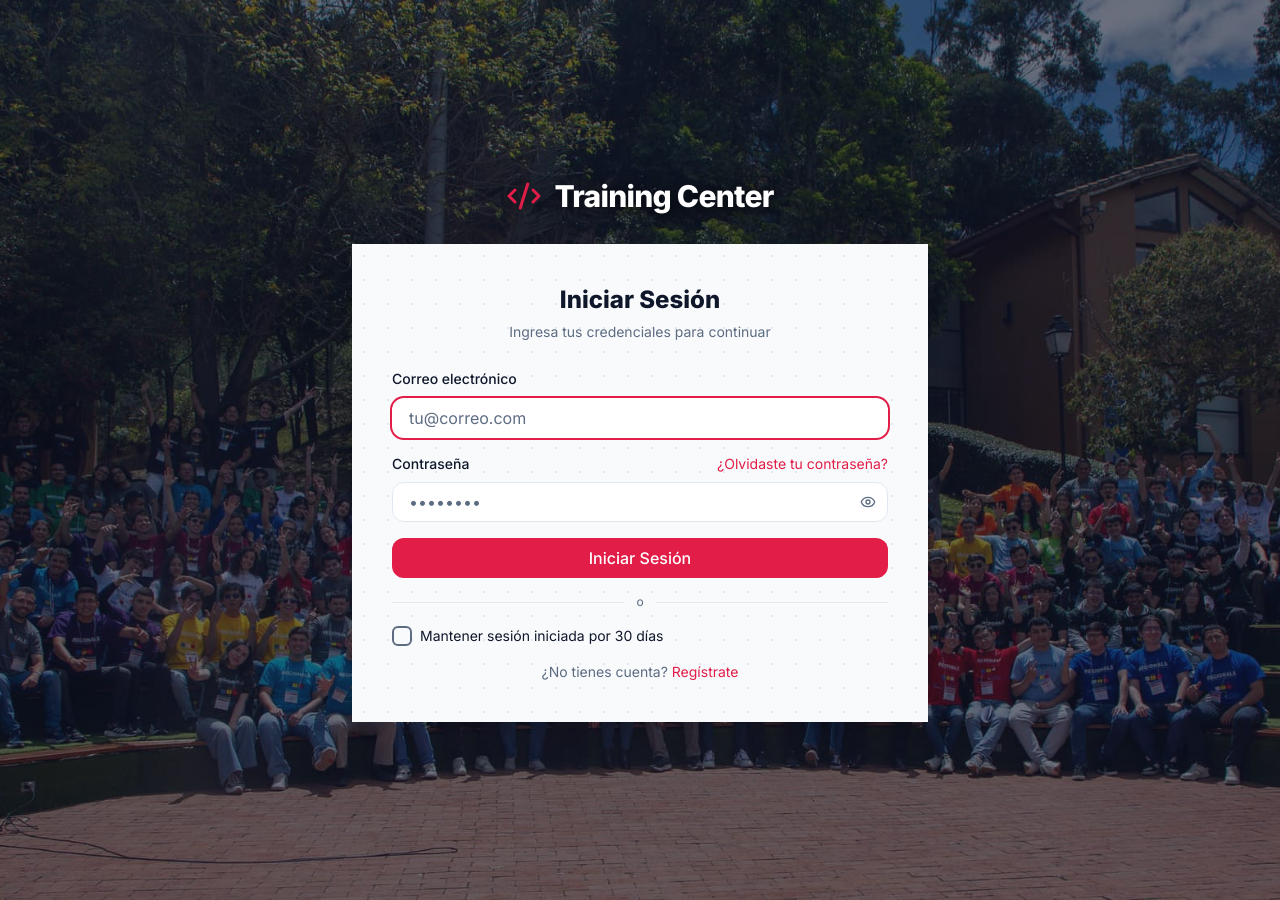
Scenario: LoginPage › shows validation error for invalid email format
In the field with placeholder "tu@correo.com": (640, 418) left=392, top=398, right=888, bottom=438, type "a@test.c"
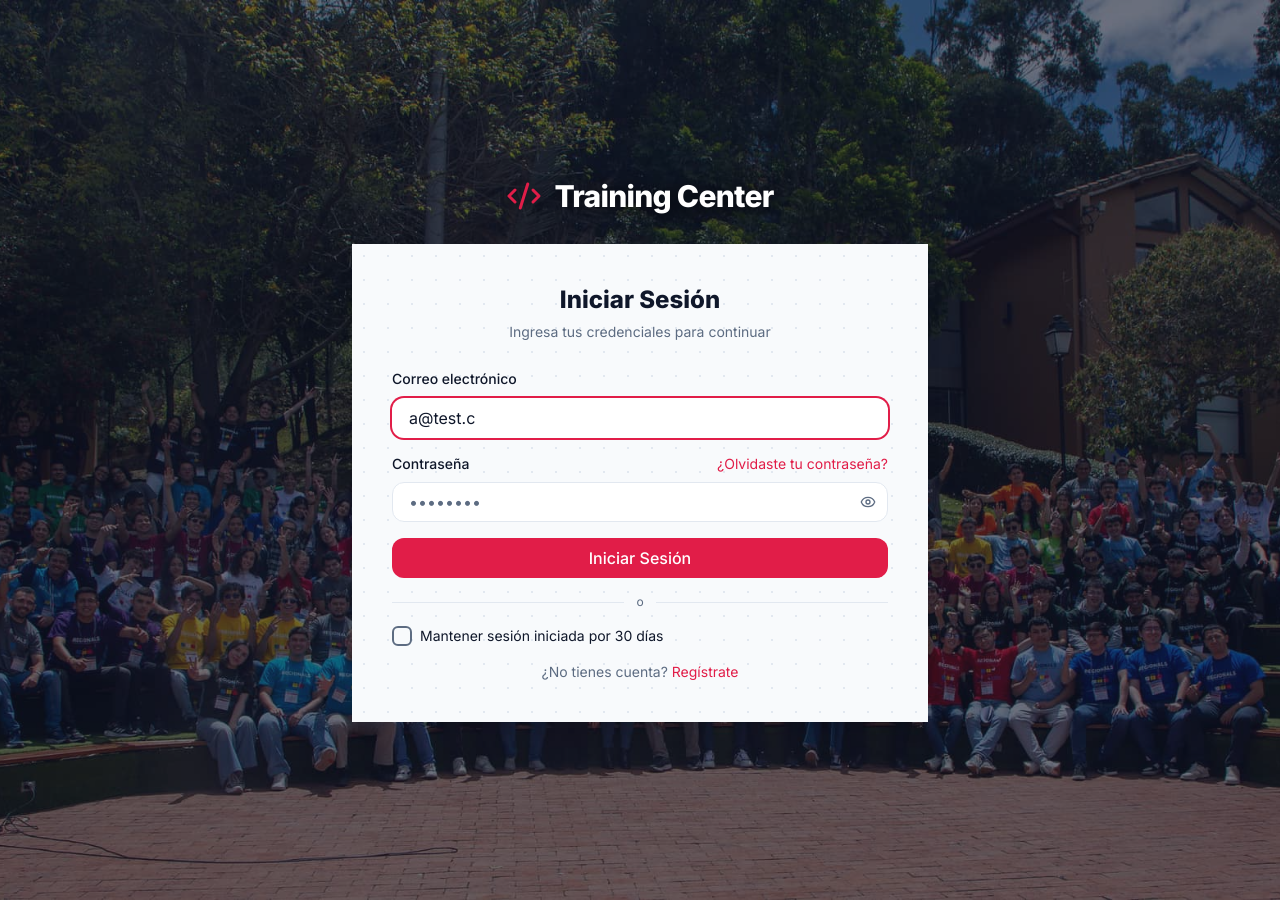
Click the button "Iniciar Sesión": (640, 558) left=392, top=538, right=888, bottom=578
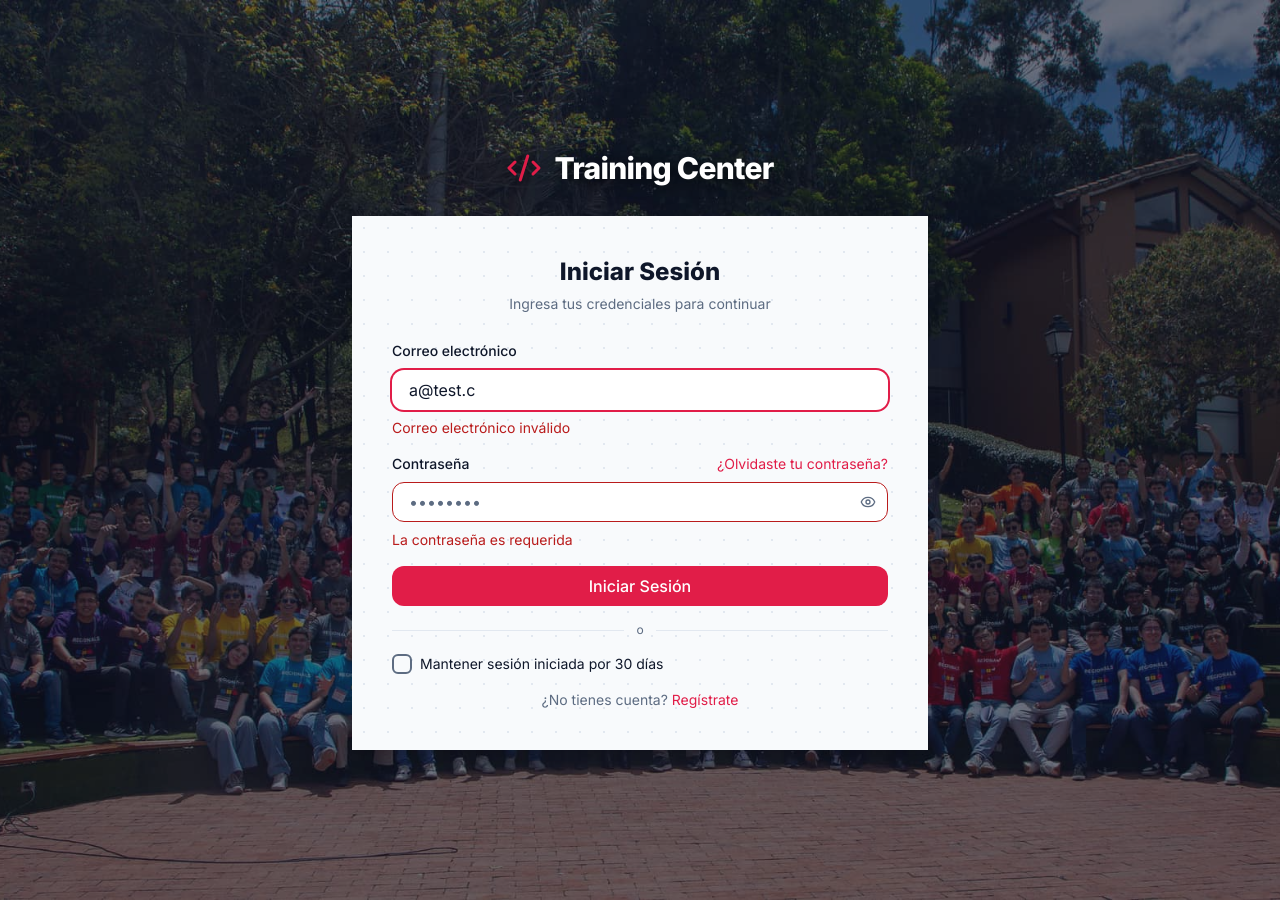
Result: the text "Correo electrónico inválido" is shown at left=392, top=419, right=570, bottom=436
